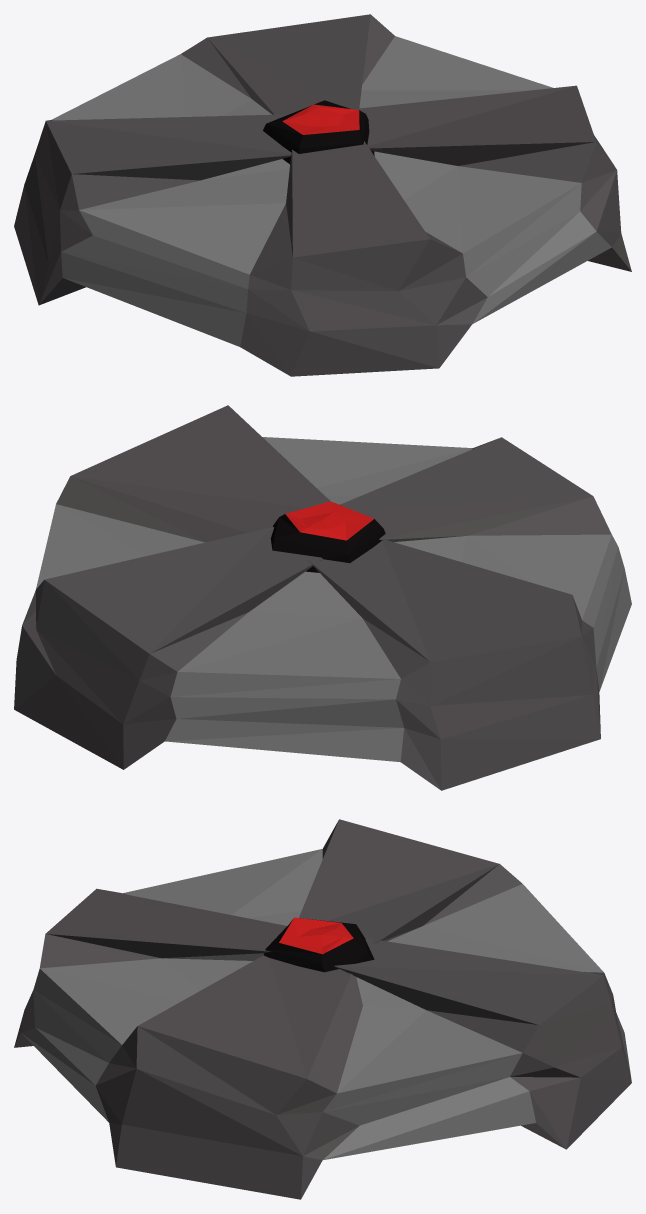
File: mine_vf.FBX
3 views of the same model, one above another, from view 1: azimuth 30°, elevation 25°; view 2: azimuth 150°, elevation 25°; view 3: azimuth 270°, elevation 25° (orthographic). The views are drawn at different scales.
Parts seen in each view (by area): view 1: Cone002; view 2: Cone002; view 3: Cone002.
Part boxes in pixels (box(x1,y1,x2,y2)): Cone002: box(14, 14, 631, 376); Cone002: box(14, 405, 631, 790); Cone002: box(14, 819, 631, 1199).
Bounding box in the file's own units: 60.69 × 13.91 × 59.16.
Materials: 1 (1 with a texture image).
